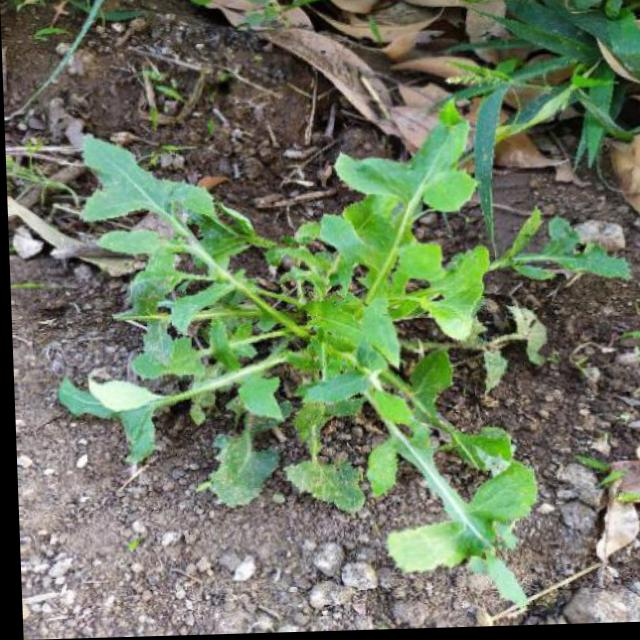weed: (48, 88, 541, 587)
